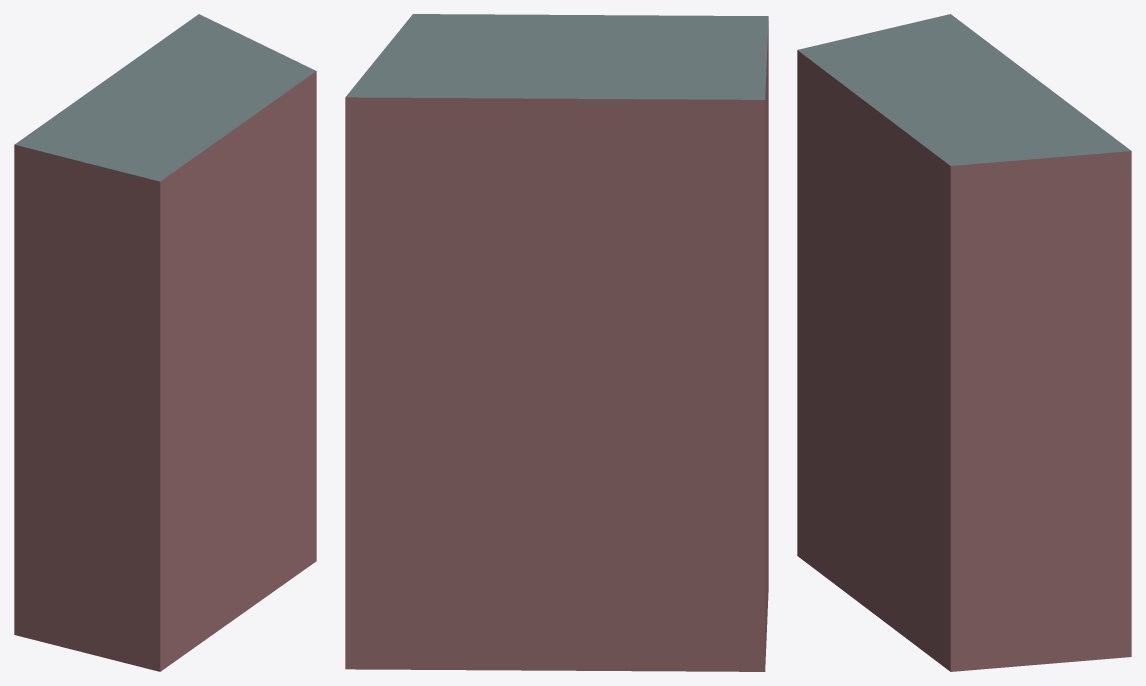
Rendered from nyc-1015262-0.glb.
The picture shows the model from 3 angles, left to right: view 1: azimuth 30°, elevation 25°; view 2: azimuth 150°, elevation 25°; view 3: azimuth 270°, elevation 25°; orthographic projection. The views are drawn at different scales.
Parts seen in each view (by area): view 1: nyc-1015262-0; view 2: nyc-1015262-0; view 3: nyc-1015262-0.
Part boxes in pixels (bbox=[...]): nyc-1015262-0: bbox=[14, 14, 316, 671]; nyc-1015262-0: bbox=[345, 14, 768, 671]; nyc-1015262-0: bbox=[797, 14, 1131, 671].
Size of the model in its own units: 61.13 by 94.84 by 56.83.
